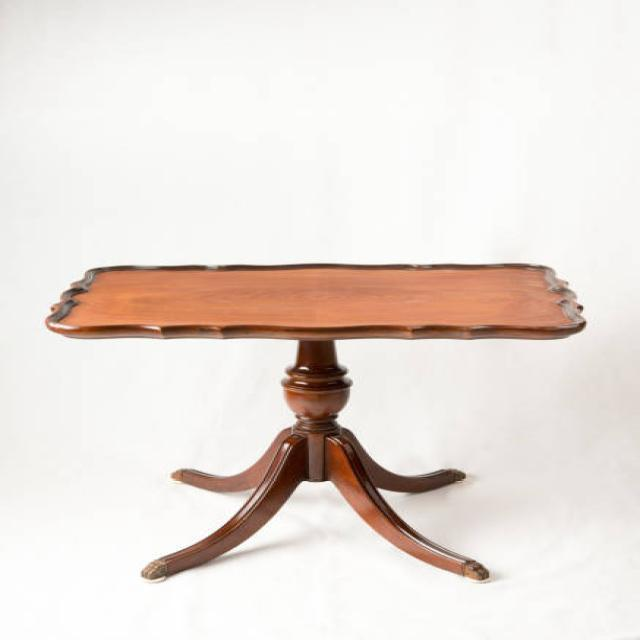table: (44, 261, 588, 584)
